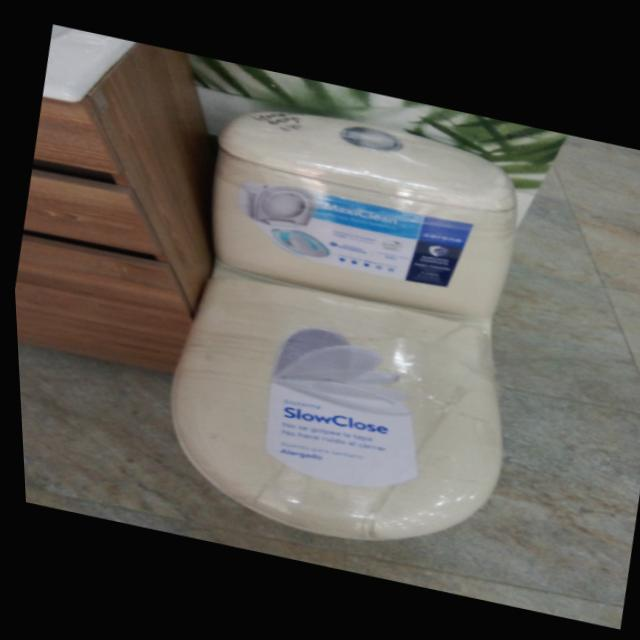toilet: (132, 86, 561, 569)
